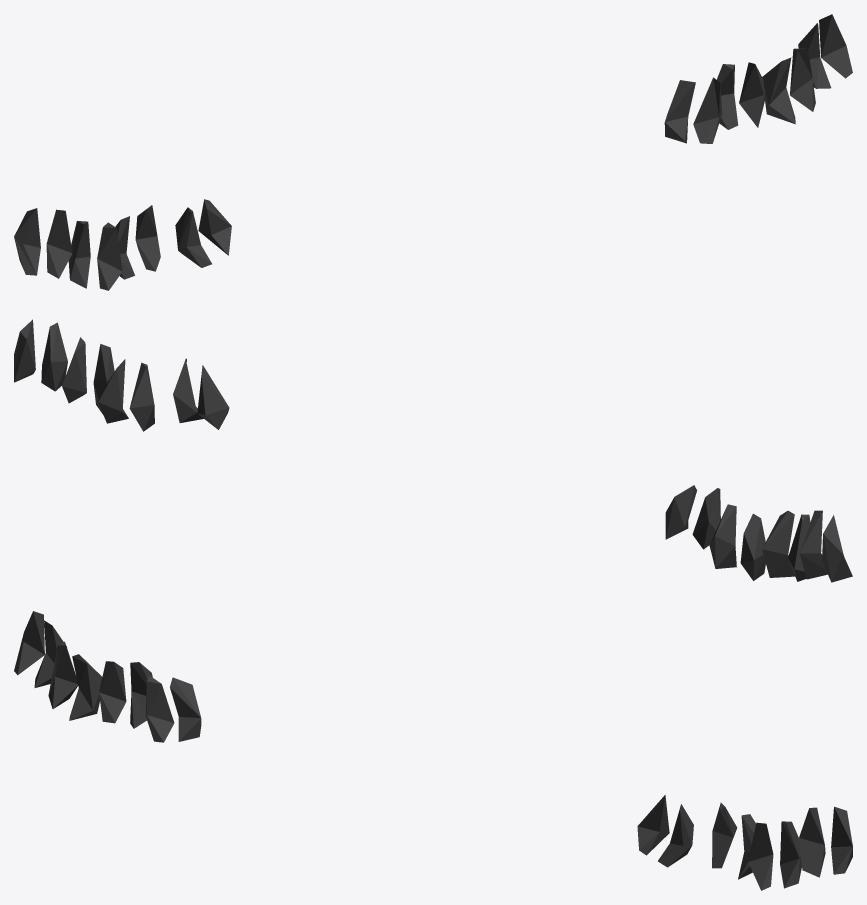
The model's file is FL_sesamoids_proximal.glb.
3 views of the same model, one above another, from view 1: azimuth 30°, elevation 25°; view 2: azimuth 150°, elevation 25°; view 3: azimuth 330°, elevation 25° (orthographic).
Parts seen in each view (by area): view 1: FL_sesamoids_proximal; view 2: FL_sesamoids_proximal; view 3: FL_sesamoids_proximal.
Boxes of the visible parts, <box> form: FL_sesamoids_proximal: <box>14,14,852,290</box>; FL_sesamoids_proximal: <box>14,319,852,582</box>; FL_sesamoids_proximal: <box>14,611,852,890</box>.
Bounding box in the file's own units: 0.00427 × 0.000424 × 0.000309.
1 material, 1 textured.
